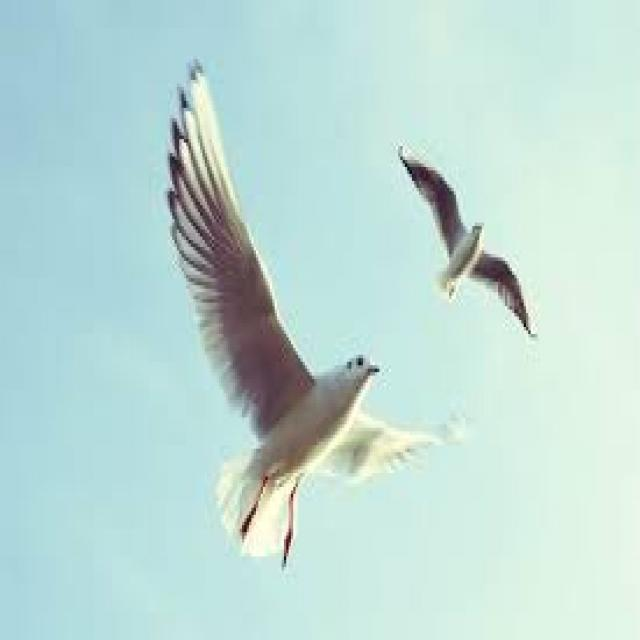bird: (118, 21, 516, 567), (396, 108, 548, 380)
